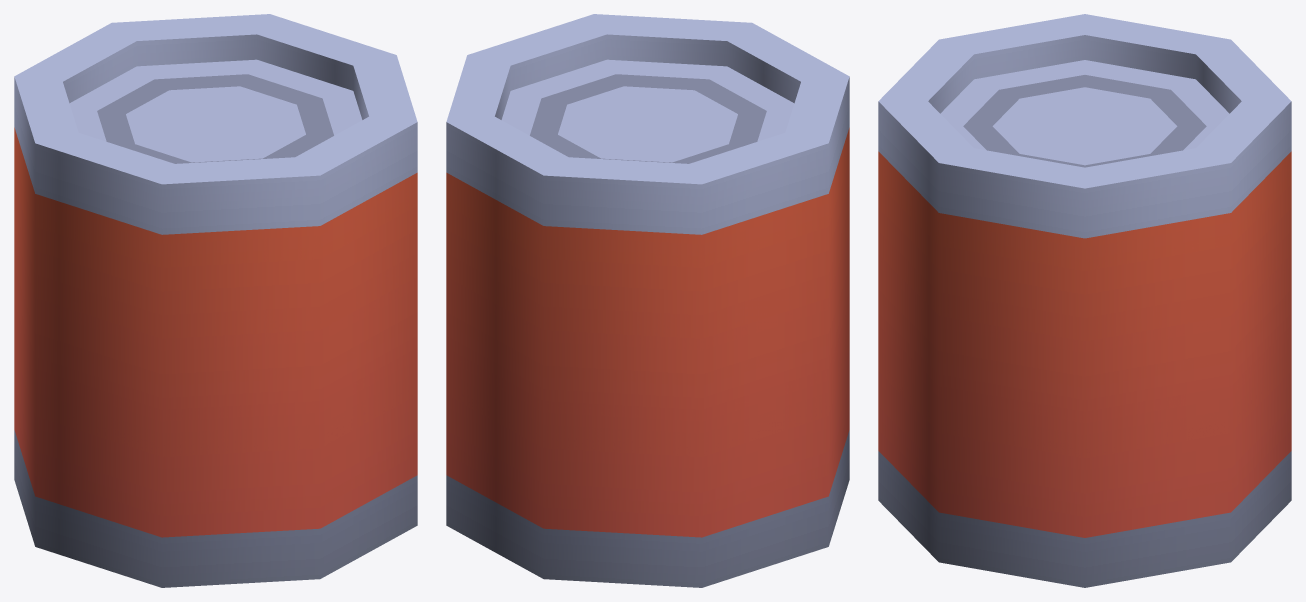
The model's file is food-can.glb.
3 renders of one model, left to right at view 1: azimuth 30°, elevation 25°; view 2: azimuth 150°, elevation 25°; view 3: azimuth 270°, elevation 25°, orthographic.
Parts seen in each view (by area): view 1: can; view 2: can; view 3: can.
Part boxes in pixels (left/top/right/bottom): can: left=14, top=14, right=417, bottom=587; can: left=446, top=14, right=849, bottom=587; can: left=878, top=14, right=1291, bottom=587.
Size of the model in its own units: 0.3 by 0.32 by 0.3.
Materials: 1 (1 with a texture image).
